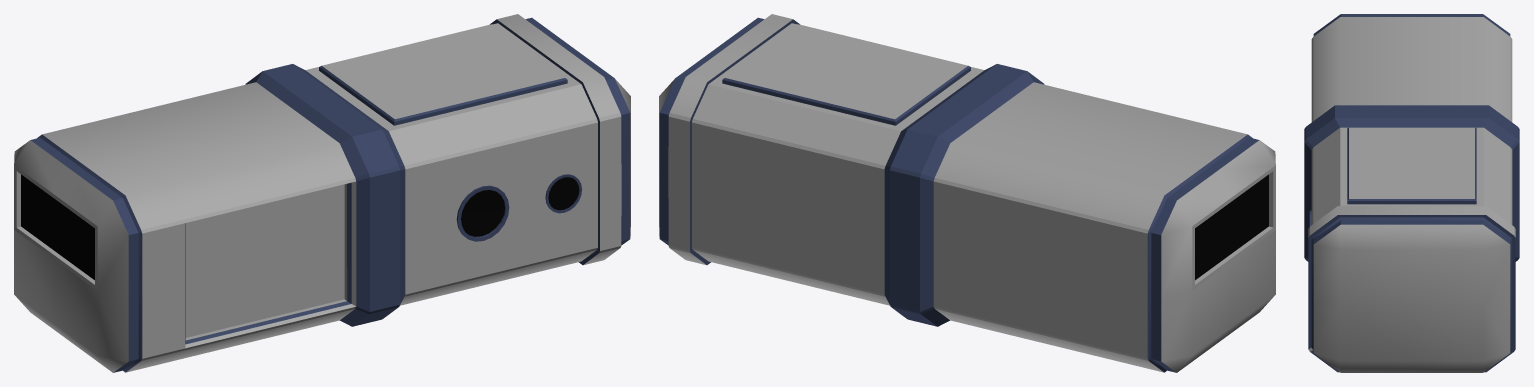
File: FUNE.fbx
The picture shows the model from 3 angles, left to right: view 1: azimuth 30°, elevation 25°; view 2: azimuth 150°, elevation 25°; view 3: azimuth 270°, elevation 25°; orthographic projection. The views are drawn at different scales.
Parts seen in each view (by area): view 1: pCube21, pCube7, pCube5, pCylinder1, pCylinder2, pCylinder3; view 2: pCube21, pCube5; view 3: pCube21, pCube5.
Boxes of the visible parts, x1,y1,x2,y2 form: pCube21: (14, 14, 630, 372); pCube7: (185, 184, 344, 337); pCube5: (319, 24, 567, 125); pCylinder1: (461, 190, 504, 236); pCylinder2: (548, 177, 579, 210); pCylinder3: (456, 185, 509, 241); pCube21: (659, 14, 1275, 372); pCube5: (722, 24, 970, 125); pCube21: (1304, 14, 1519, 372); pCube5: (1347, 127, 1476, 204).
Size of the model in its own units: 870 by 296 by 354.
